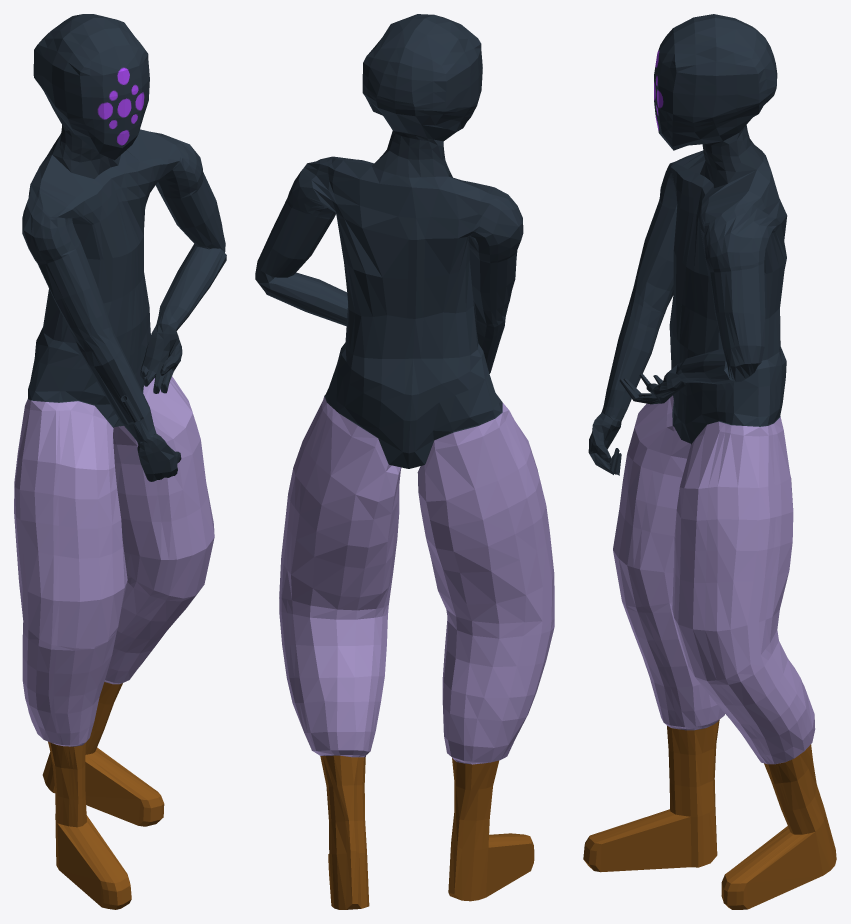
Rendered from Oracle_WB_000003.obj.
3 renders of one model, left to right at view 1: azimuth 30°, elevation 25°; view 2: azimuth 150°, elevation 25°; view 3: azimuth 270°, elevation 25°, orthographic. The views are drawn at different scales.
Parts seen in each view (by area): view 1: Cube; view 2: Cube; view 3: Cube.
Part boxes in pixels (<box>): Cube: <box>14,14,226,909</box>; Cube: <box>255,14,554,909</box>; Cube: <box>583,14,836,909</box>.
Size of the model in its own units: 1.16 by 3.92 by 1.04.
